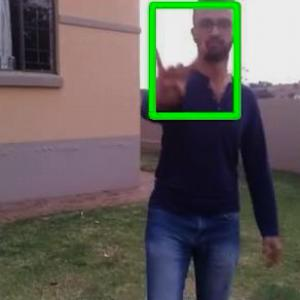takeoff-hand: (142, 36, 212, 116)
